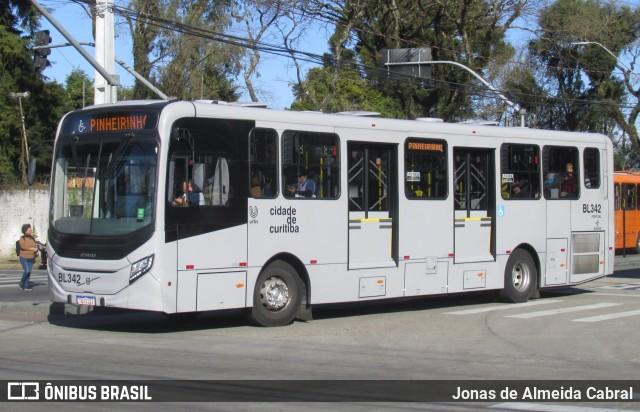PINHEIRINHO: (87, 111, 151, 135)
